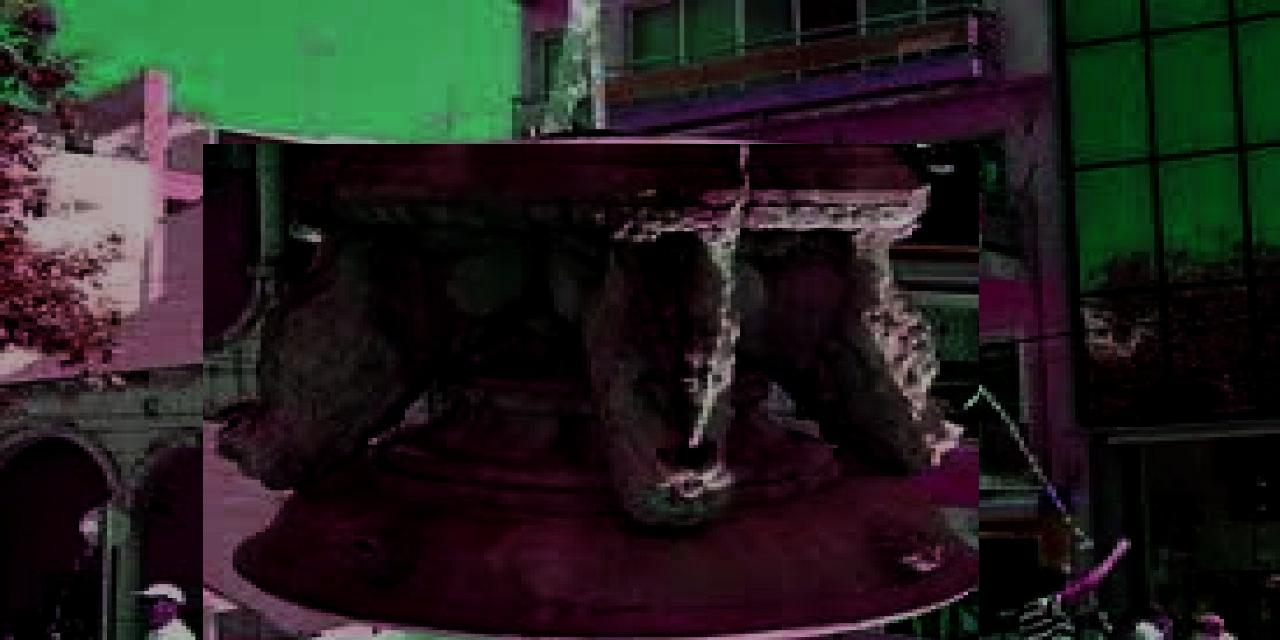Liontaria: (204, 145, 980, 640)
